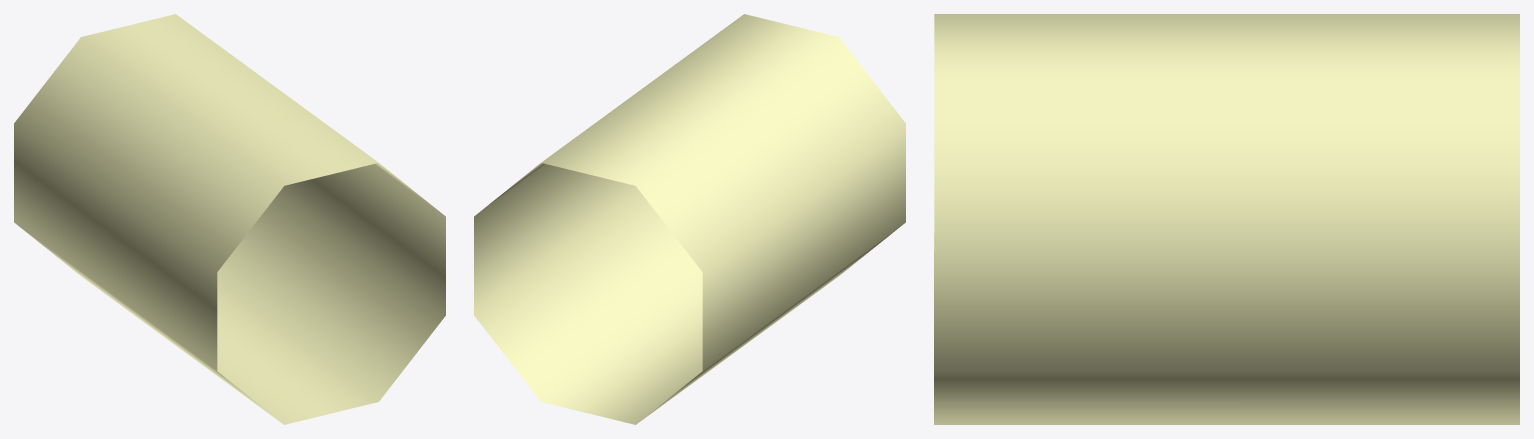
The picture shows the model from 3 angles, left to right: view 1: azimuth 30°, elevation 25°; view 2: azimuth 150°, elevation 25°; view 3: azimuth 270°, elevation 25°; orthographic projection. The views are drawn at different scales.
Parts seen in each view (by area): view 1: Object92; view 2: Object92; view 3: Object92.
Part boxes in pixels (box(x1,y1,x2,y2)): Object92: box(14, 14, 445, 424); Object92: box(474, 14, 905, 424); Object92: box(934, 14, 1519, 424).
Bounding box in the file's own units: 18357 × 18357 × 28287.
